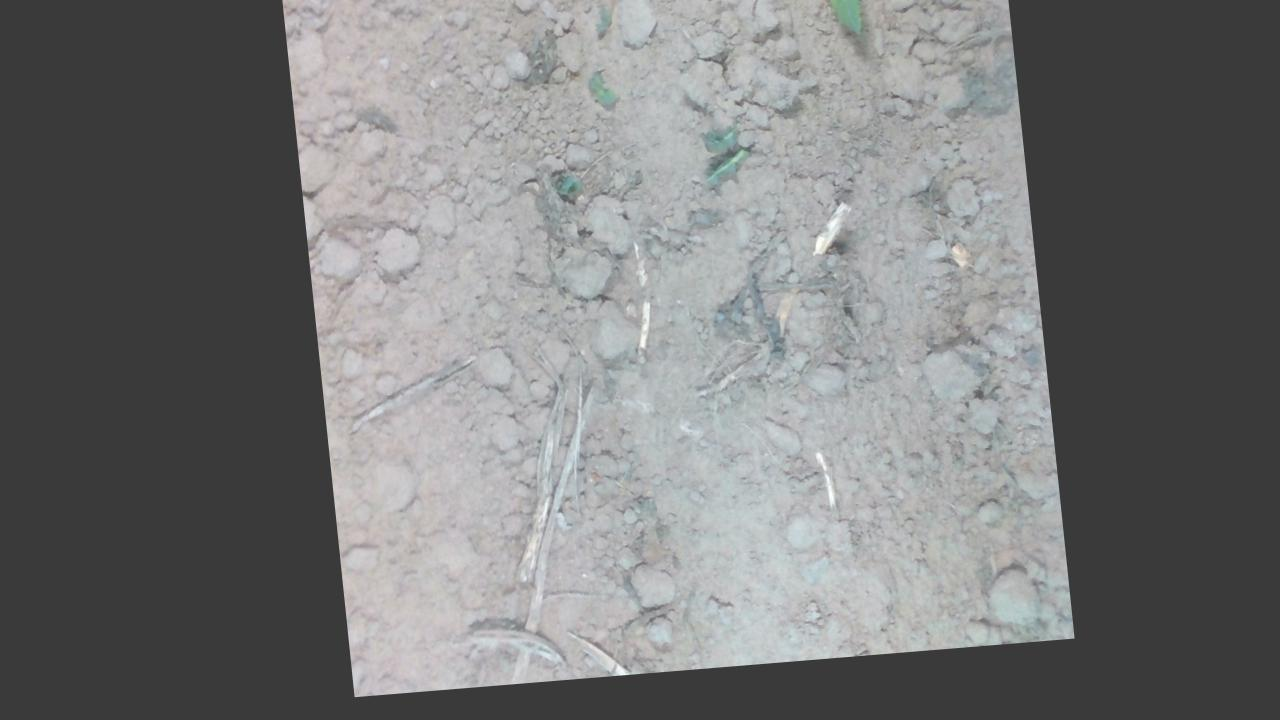weed: (794, 0, 926, 56)
